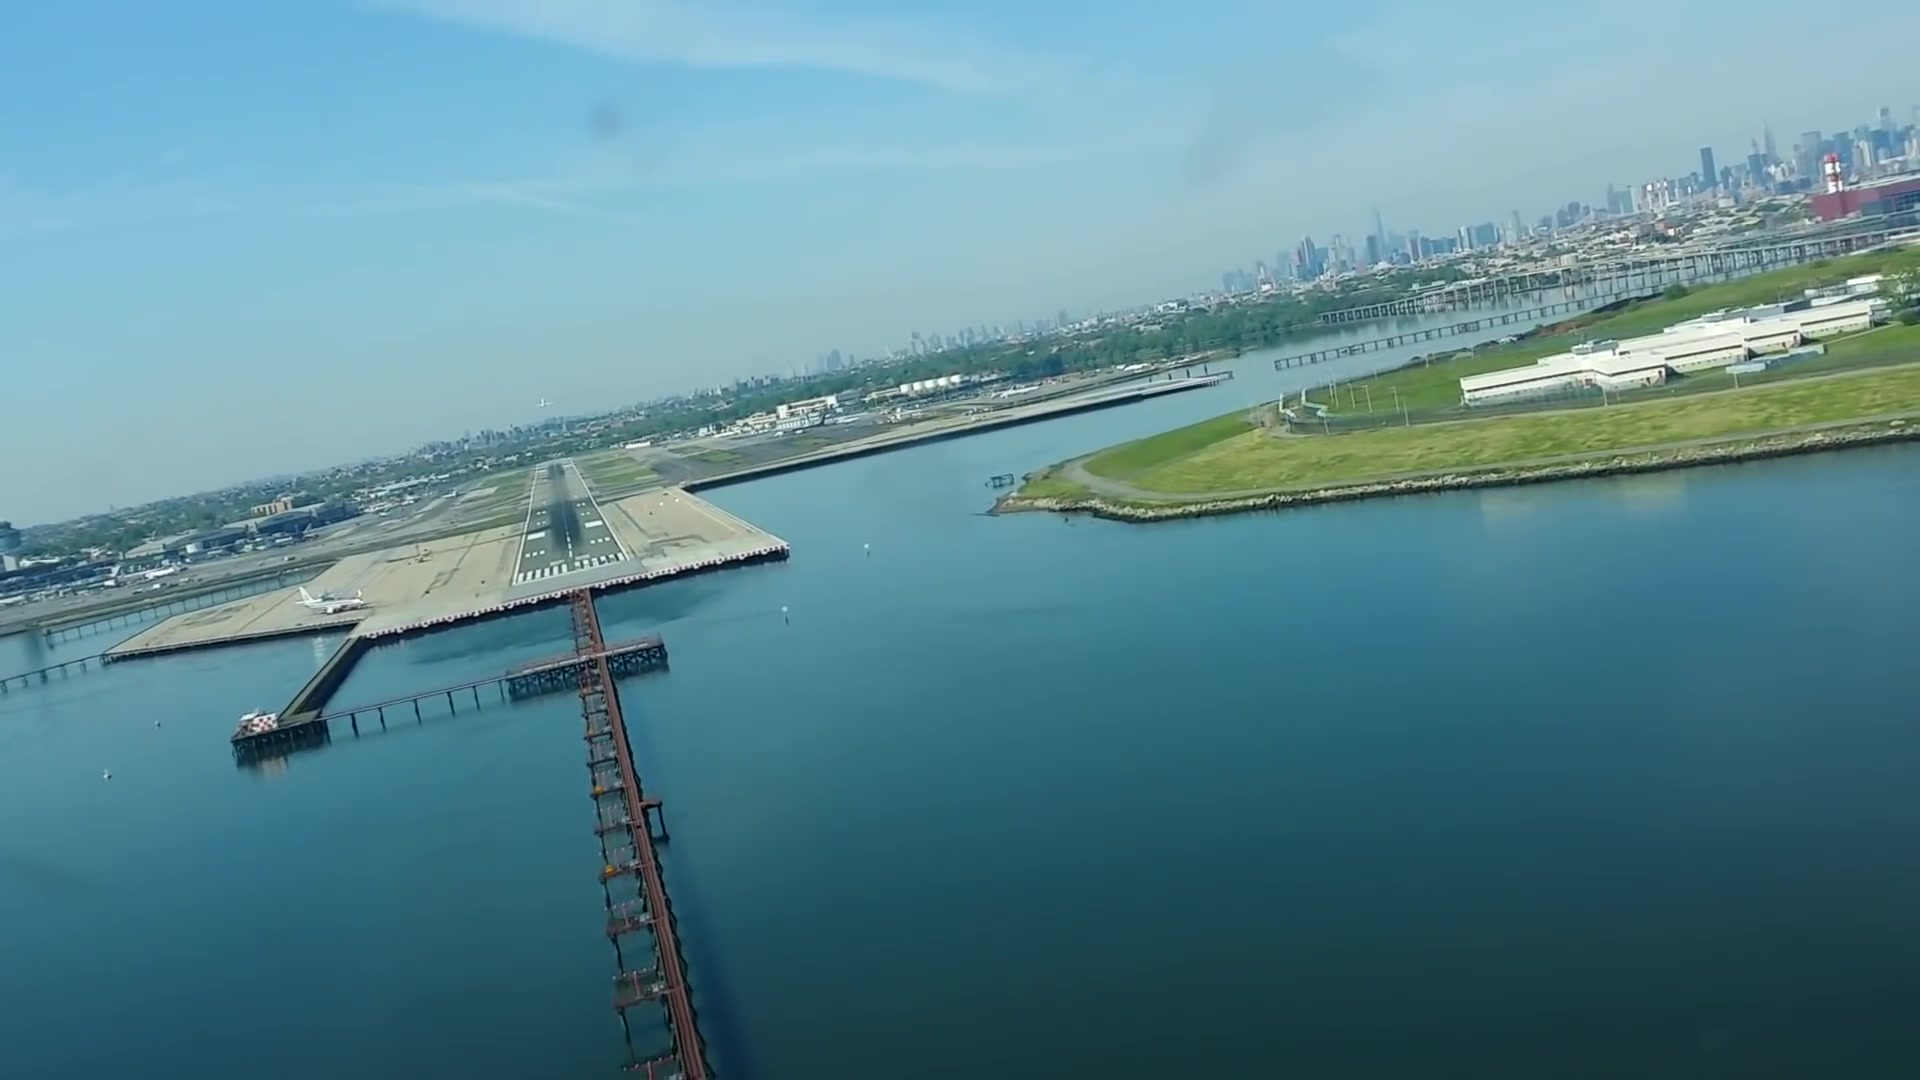entrance: (516, 550, 624, 583)
runway: (508, 454, 632, 587)
